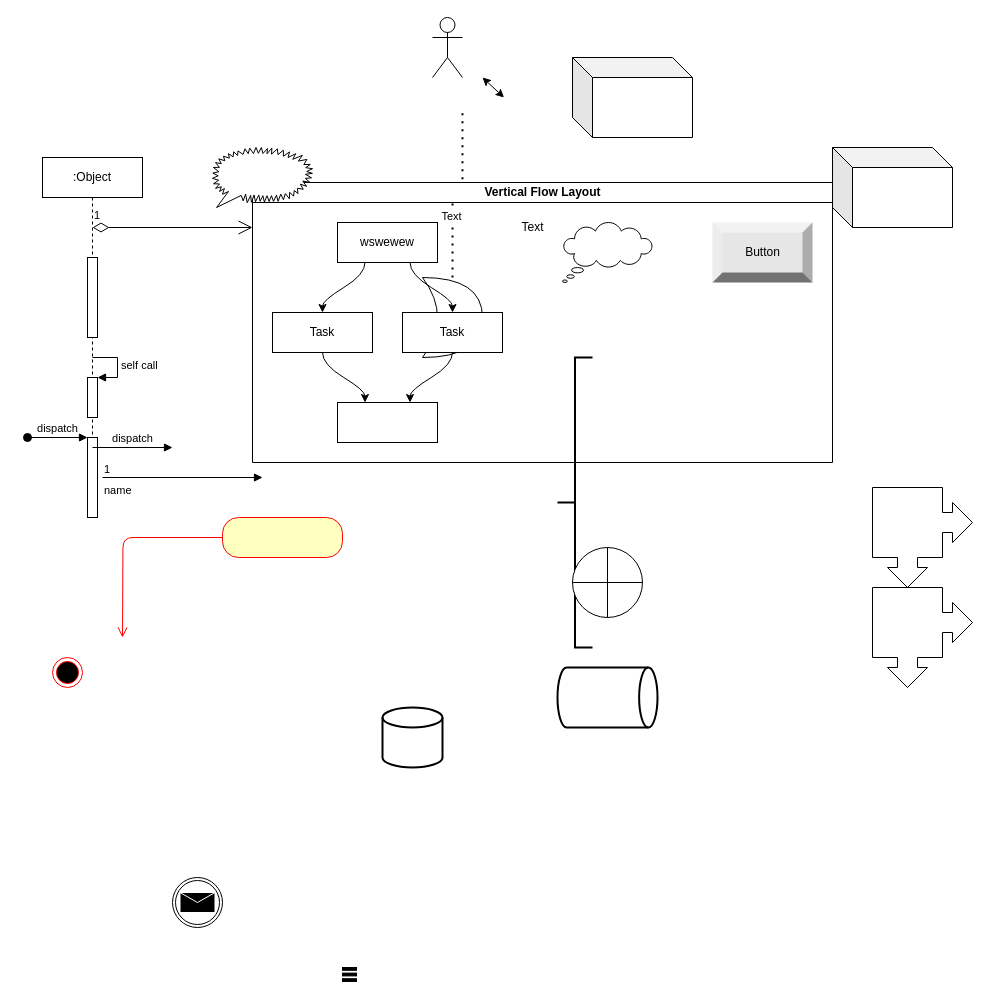
This 990x999 diagram has some shape labels left out. The shapes that lost their labels are listed below. From the top down, each one's centre as x and y in pixels, then its label:
At (x=447, y=47): "Actor".
At (x=387, y=422): "End".
At (x=282, y=537): "Activity".
